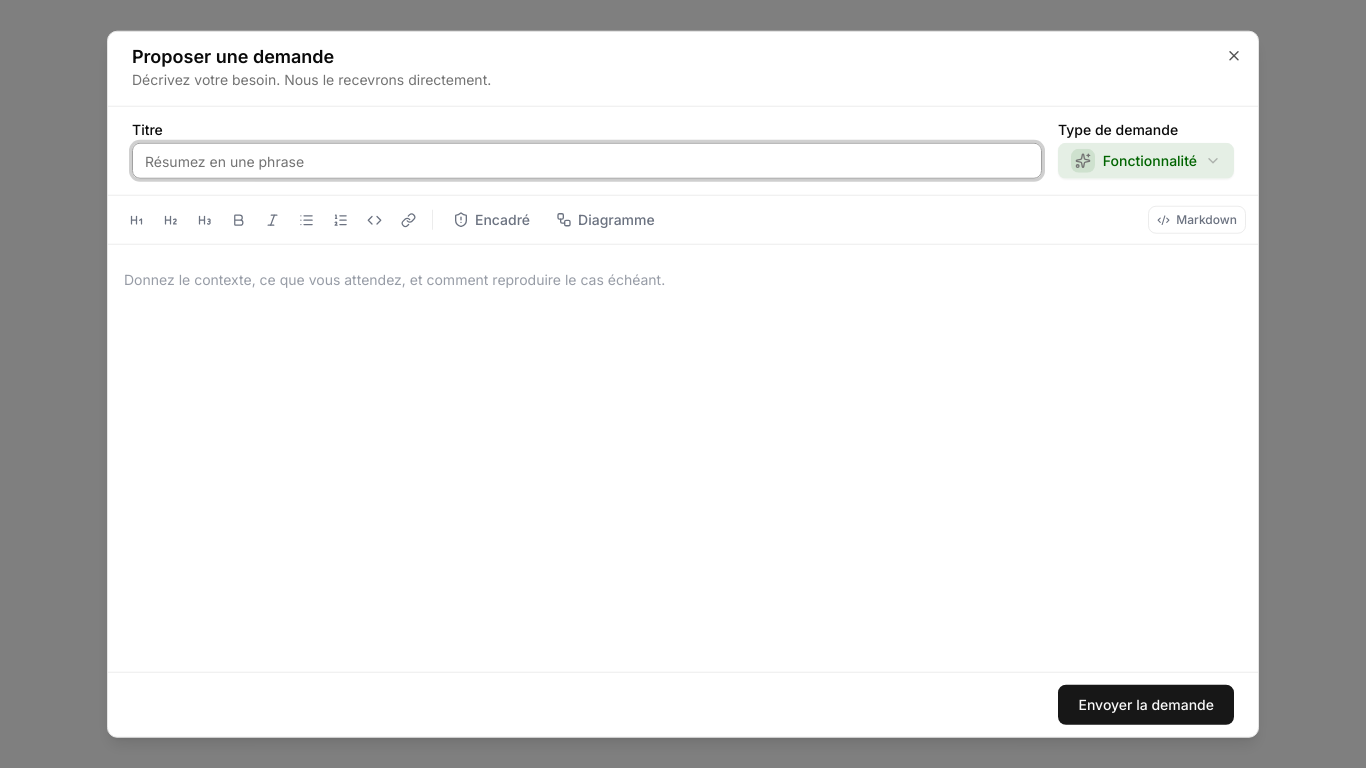
Test case: request submission form (#53) › asks for confirmation before closing a dirty draft (#153)
In the field labelled "Titre": (587, 161) [132, 143, 1042, 179], type "Draft in progress"
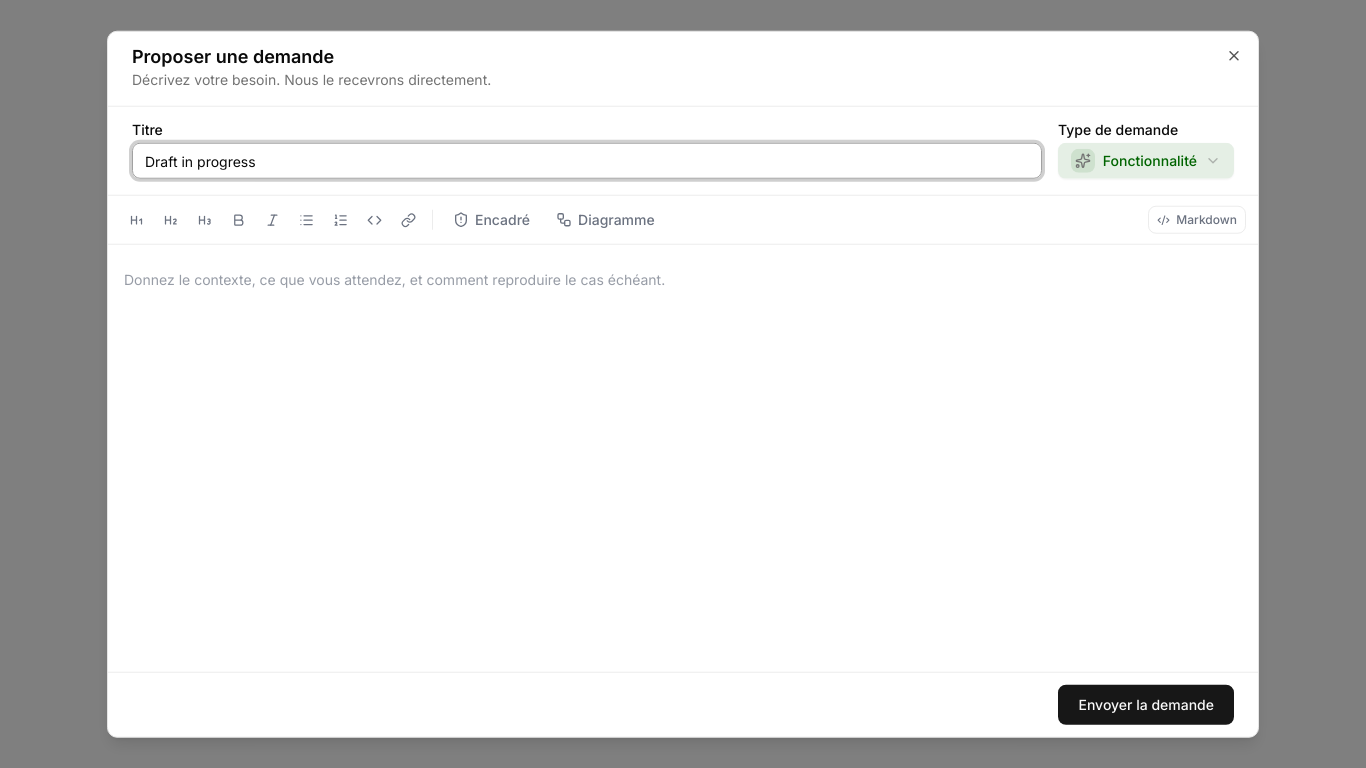
Press Escape in the dialog
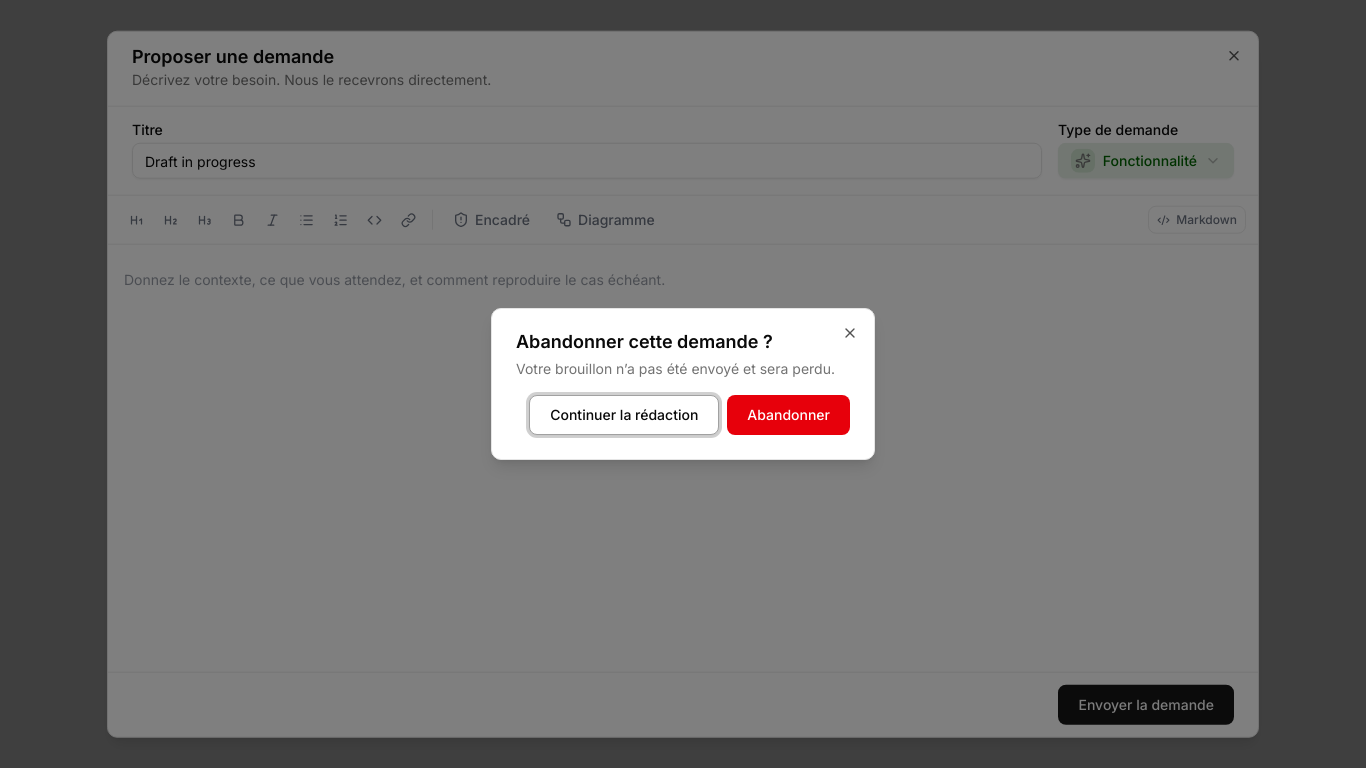
Result: the heading "Abandonner cette demande ?" is shown at [516, 331, 773, 352]
